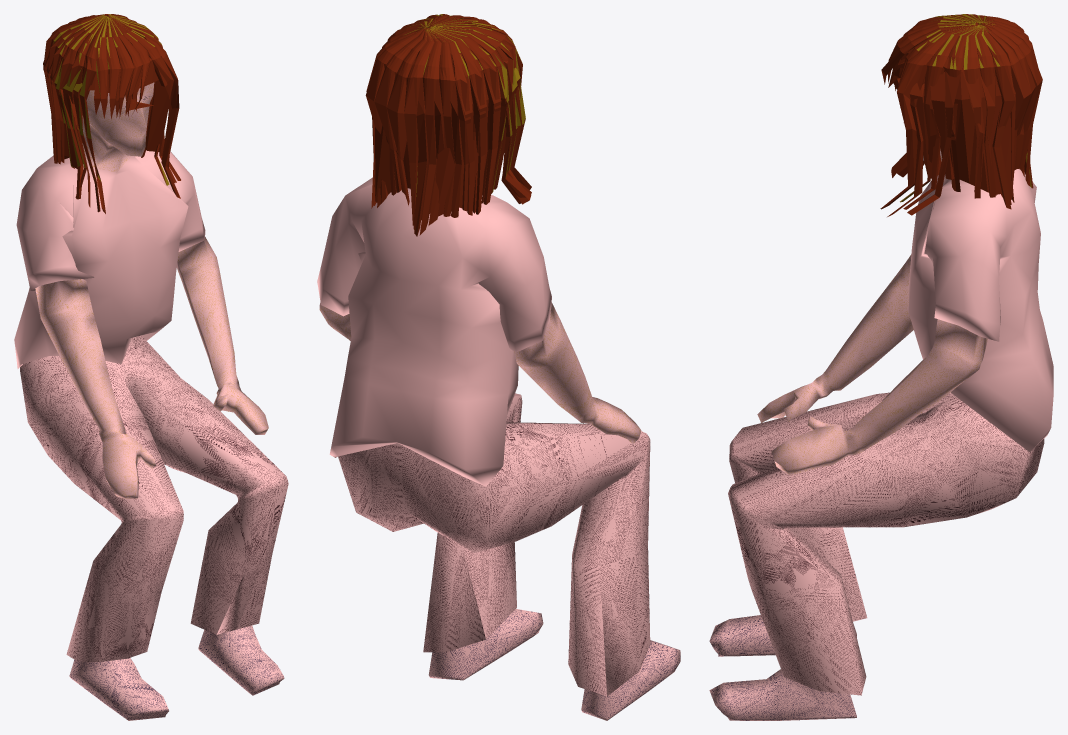
The picture shows the model from 3 angles, left to right: view 1: azimuth 30°, elevation 25°; view 2: azimuth 150°, elevation 25°; view 3: azimuth 270°, elevation 25°; orthographic projection. The views are drawn at different scales.
Parts seen in each view (by area): view 1: ske292, Cube.019_1_1; view 2: ske292, Cube.019_1_1; view 3: ske292, Cube.019_1_1.
Boxes of the visible parts, left/top/right/bottom form: ske292: left=14, top=82, right=288, bottom=720; Cube.019_1_1: left=43, top=14, right=180, bottom=213; ske292: left=317, top=177, right=680, bottom=720; Cube.019_1_1: left=365, top=14, right=531, bottom=236; ske292: left=709, top=122, right=1053, bottom=720; Cube.019_1_1: left=880, top=14, right=1042, bottom=216.
Size of the model in its own units: 21.01 by 28.39 by 60.59.
